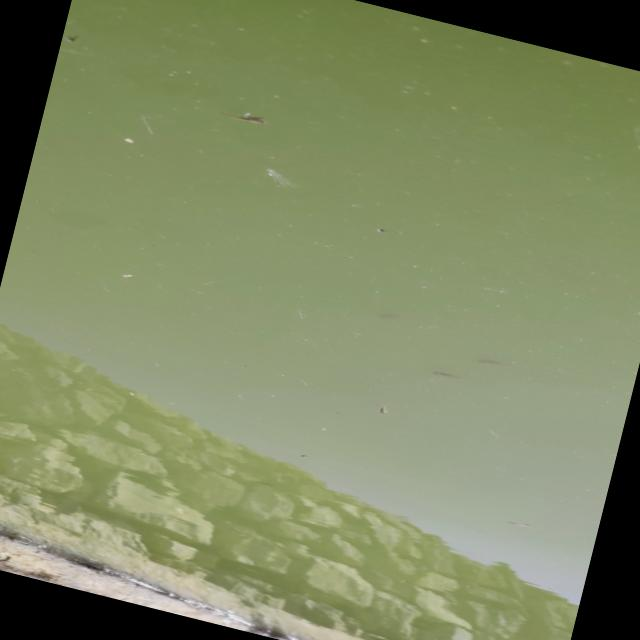Sivrisinek Baligi: (221, 104, 269, 130), (469, 350, 520, 374), (423, 364, 468, 386), (370, 400, 390, 416)
